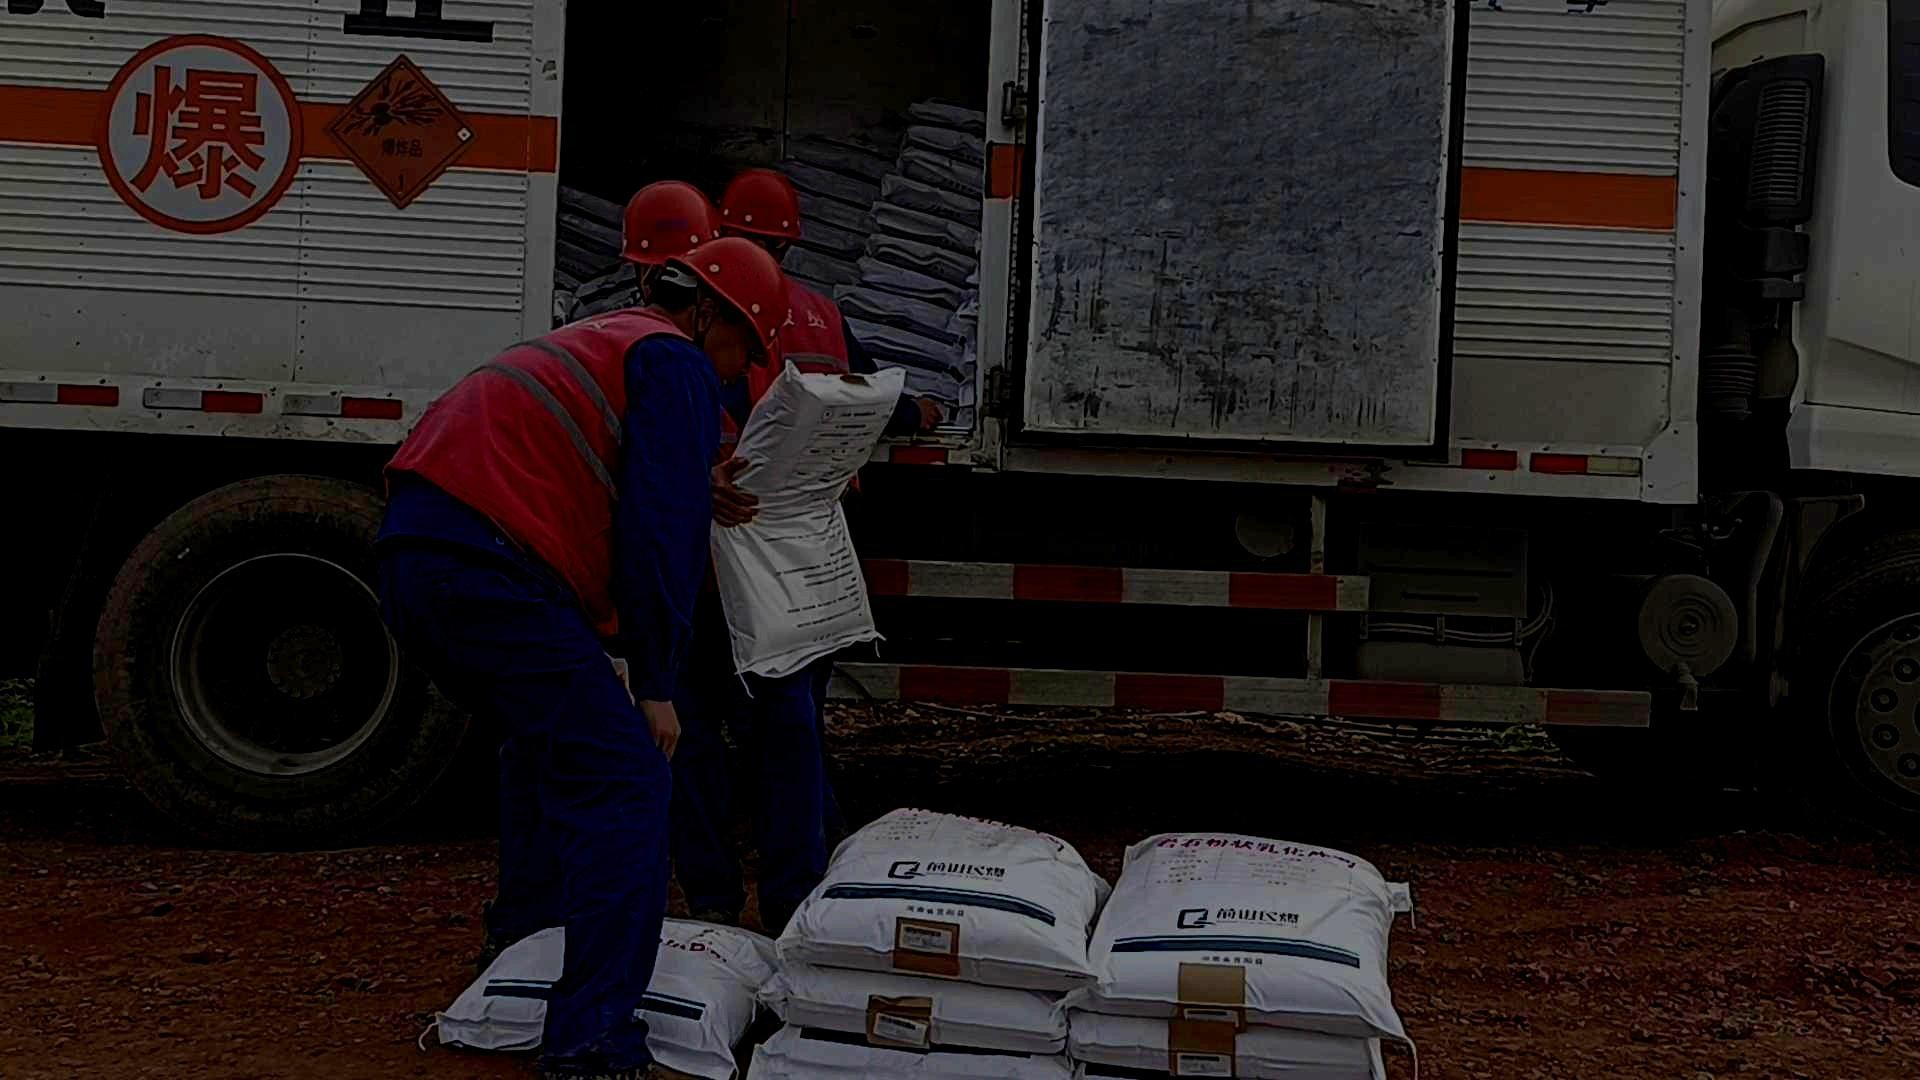helmet: (644, 237, 789, 392), (618, 178, 723, 302), (717, 167, 802, 262)
